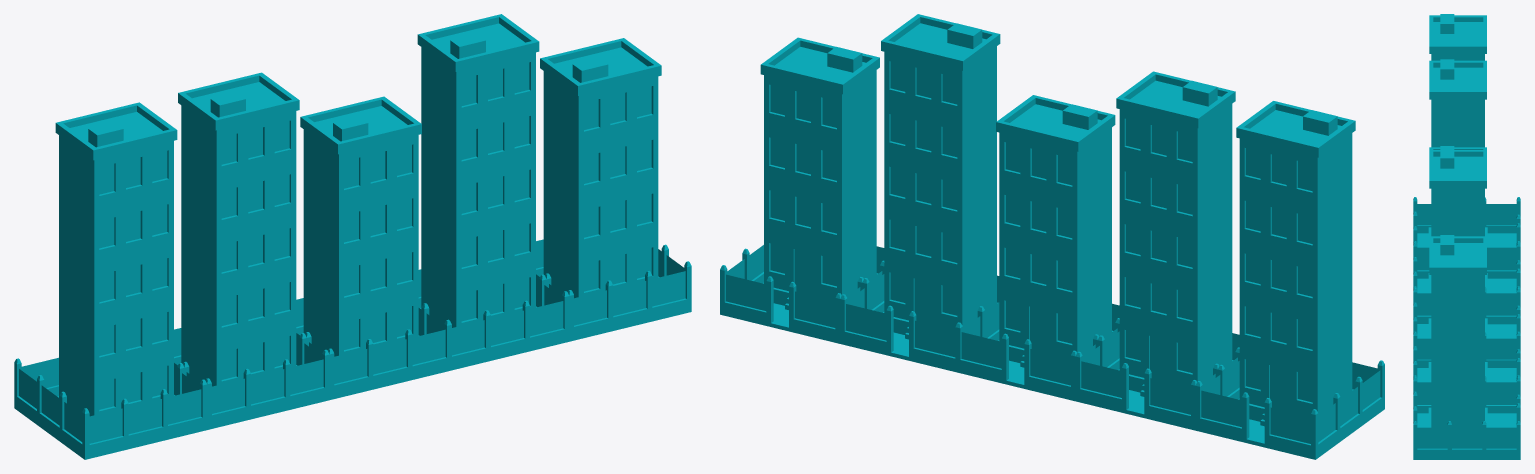
The model's file is student12.FBX.
3 renders of one model, left to right at view 1: azimuth 30°, elevation 25°; view 2: azimuth 150°, elevation 25°; view 3: azimuth 270°, elevation 25°, orthographic. The views are drawn at different scales.
Visible parts, largest first — view 1: 学生公寓12; view 2: 学生公寓12; view 3: 学生公寓12.
Part boxes in pixels (left/top/right/bottom): 学生公寓12: left=14, top=14, right=691, bottom=459; 学生公寓12: left=720, top=14, right=1384, bottom=459; 学生公寓12: left=1413, top=14, right=1520, bottom=459.
Size of the model in its own units: 29.76 by 14.26 by 6.
